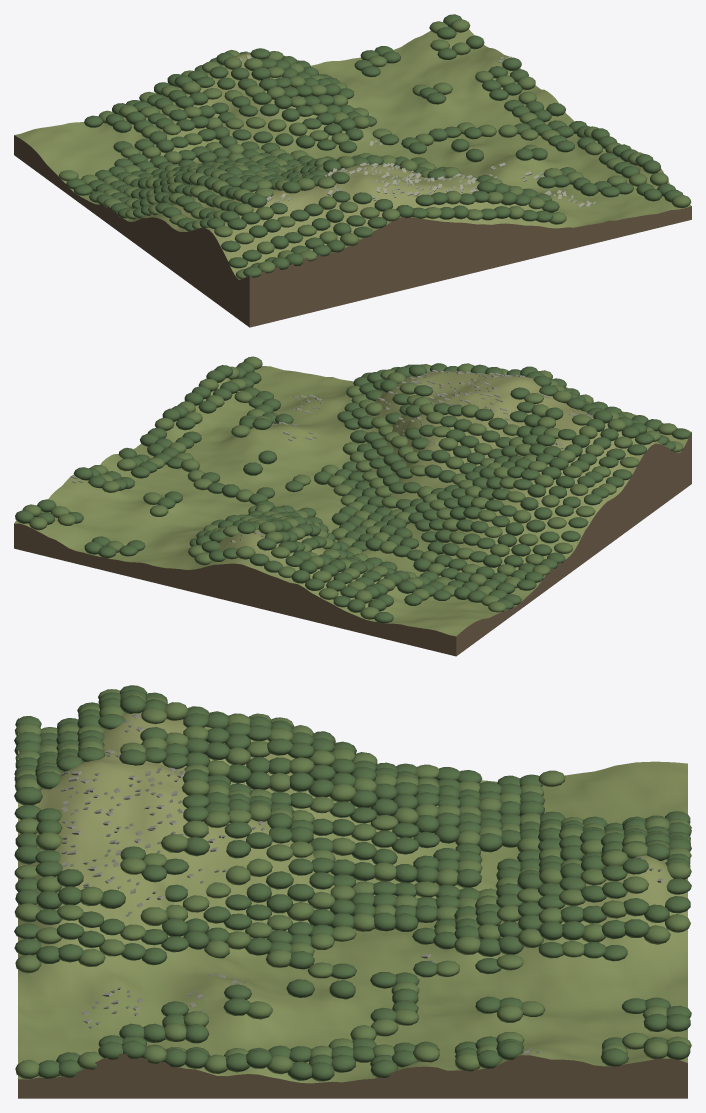
Rendered from gms-21.glb.
The picture shows the model from 3 angles, top to bottom: view 1: azimuth 30°, elevation 25°; view 2: azimuth 150°, elevation 25°; view 3: azimuth 270°, elevation 25°; orthographic projection. The views are drawn at different scales.
Visible parts, largest first — view 1: GMS-21 - estudio del paisaje; view 2: GMS-21 - estudio del paisaje; view 3: GMS-21 - estudio del paisaje.
Boxes of the visible parts, box(x1,y1,x2,y2) form: GMS-21 - estudio del paisaje: box(14, 14, 691, 327); GMS-21 - estudio del paisaje: box(14, 356, 691, 656); GMS-21 - estudio del paisaje: box(14, 685, 691, 1098).
Size of the model in its own units: 12.1 by 2.4 by 11.21.
